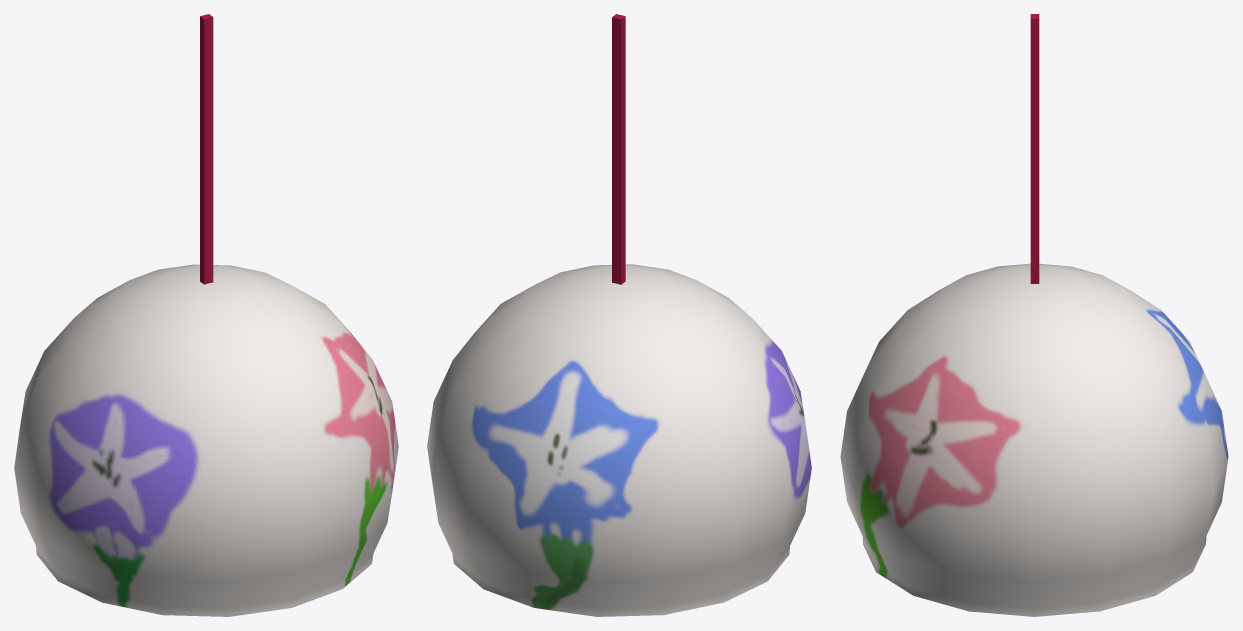
File: bell.fbx
The picture shows the model from 3 angles, left to right: view 1: azimuth 30°, elevation 25°; view 2: azimuth 150°, elevation 25°; view 3: azimuth 270°, elevation 25°; orthographic projection.
Visible parts, largest first — view 1: bell; view 2: bell; view 3: bell.
Boxes of the visible parts, x1,y1,x2,y2 form: bell: (14, 14, 398, 616); bell: (427, 14, 811, 616); bell: (840, 14, 1228, 616).
Bounding box in the file's own units: 20 × 30.25 × 20.
